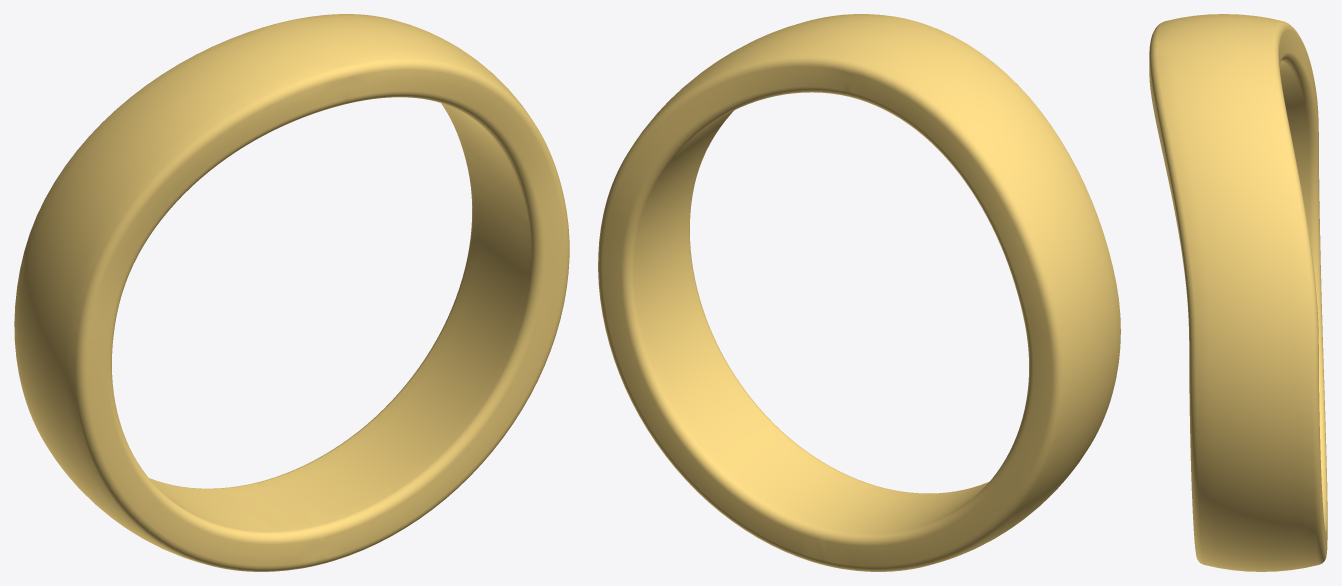
The model's file is Gaby_wb_alone_blender.glb.
3 views of the same model, side by side, from view 1: azimuth 30°, elevation 25°; view 2: azimuth 150°, elevation 25°; view 3: azimuth 270°, elevation 25° (orthographic). The views are drawn at different scales.
Parts seen in each view (by area): view 1: Gaby YG wb only for 3d model; view 2: Gaby YG wb only for 3d model; view 3: Gaby YG wb only for 3d model.
Part boxes in pixels (box(x1,y1,x2,y2)): Gaby YG wb only for 3d model: box(14, 14, 569, 571); Gaby YG wb only for 3d model: box(598, 14, 1120, 571); Gaby YG wb only for 3d model: box(1149, 14, 1327, 571).
Bounding box in the file's own units: 17.66 × 17.66 × 5.64.
